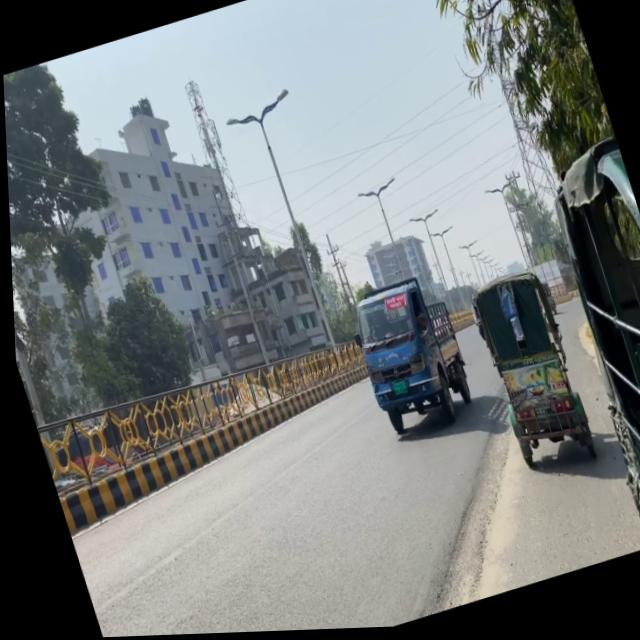Construction-barrier: (40, 379, 333, 538), (363, 419, 554, 620)
Traffic-cone: (521, 137, 640, 554), (461, 265, 596, 484), (336, 270, 477, 445)
